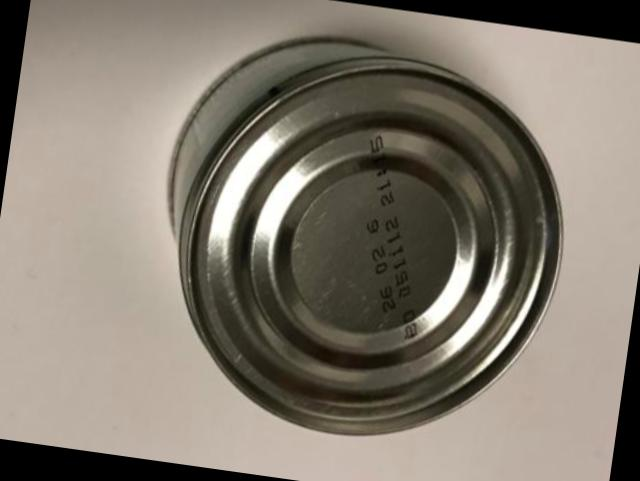metal: (172, 43, 563, 436)
